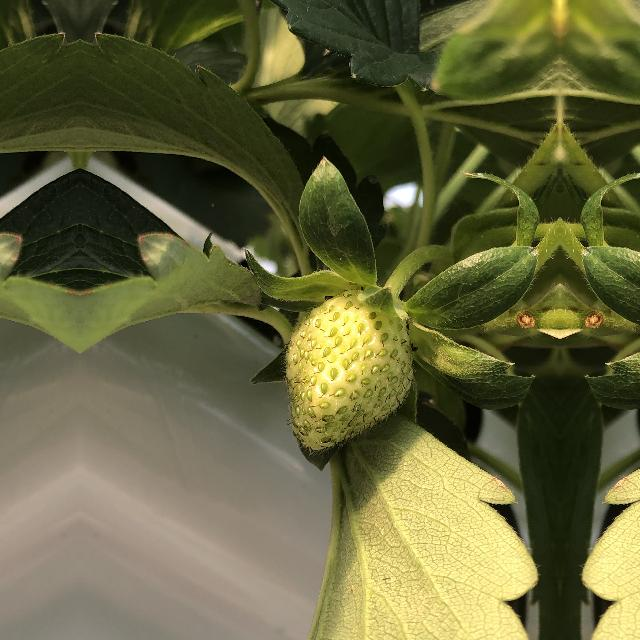Health_25: (278, 279, 422, 459)
